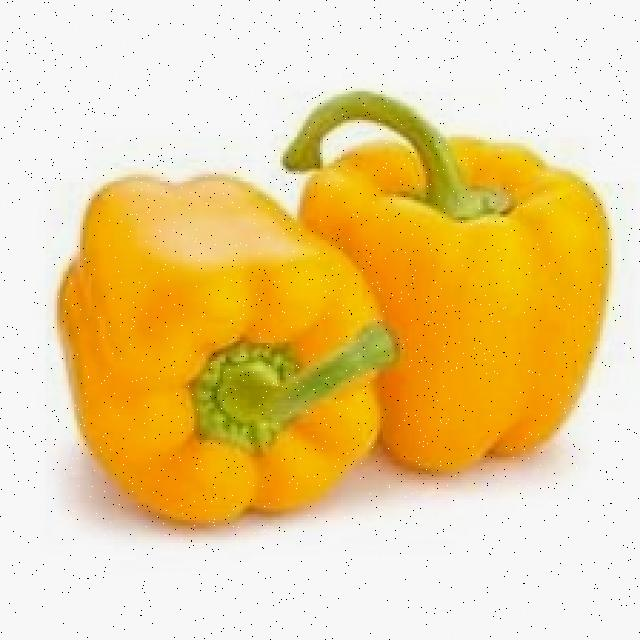Bell Pepper: (274, 44, 640, 587), (44, 129, 407, 551)
